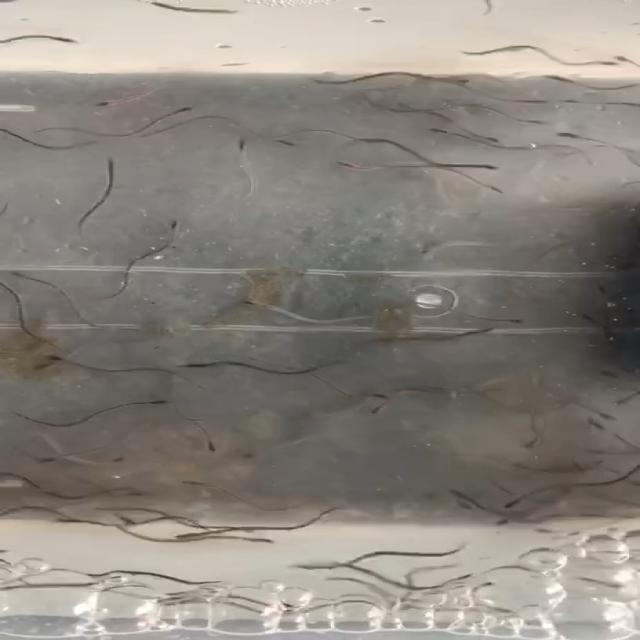active_glass_eel: (258, 133, 324, 163), (219, 282, 280, 314), (492, 308, 560, 334), (88, 84, 131, 117), (367, 397, 414, 426), (171, 435, 227, 455), (92, 450, 144, 471), (592, 48, 636, 72), (459, 310, 497, 336), (162, 214, 200, 238), (510, 425, 549, 448), (473, 125, 512, 148), (242, 528, 281, 550), (540, 91, 584, 110), (120, 397, 178, 411), (169, 349, 207, 370), (582, 411, 628, 428), (549, 124, 586, 145), (20, 451, 65, 468), (408, 116, 448, 135), (590, 370, 624, 391), (353, 381, 390, 400), (169, 524, 200, 546), (224, 130, 259, 148), (39, 31, 76, 48), (89, 153, 126, 170), (485, 492, 522, 508), (494, 516, 527, 532), (544, 71, 579, 86), (162, 101, 202, 114), (330, 154, 349, 177), (514, 118, 543, 132)
